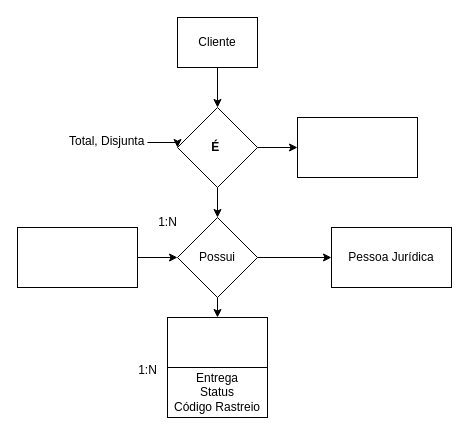
This 469x435 diagram has some shape labels left out. Here are the shapes that lost their labels. From the top down, the centre of each, then its label:
point (357, 147): Pessoa Física
point (77, 257): Pagamento-
point (217, 342): Forma de Pagamento
